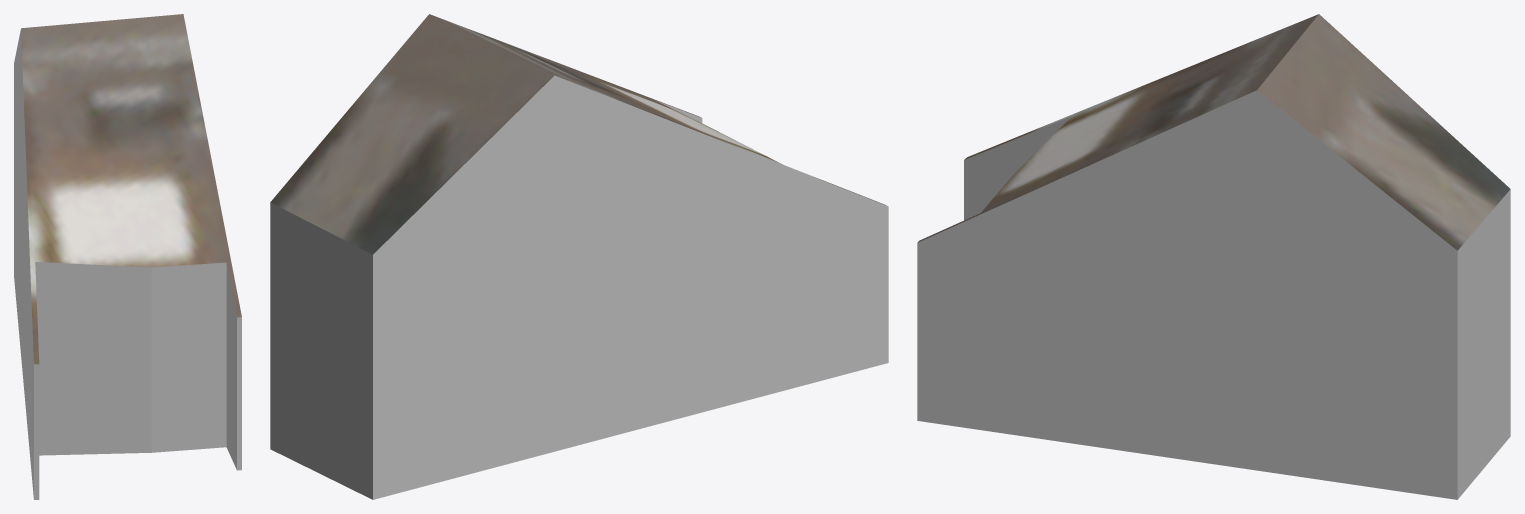
The model's file is DEBW_0010007TvlI.gltf.
The picture shows the model from 3 angles, left to right: view 1: azimuth 30°, elevation 25°; view 2: azimuth 150°, elevation 25°; view 3: azimuth 270°, elevation 25°; orthographic projection. The views are drawn at different scales.
Visible parts, largest first — view 1: Z_UP; view 2: Z_UP; view 3: Z_UP.
Boxes of the visible parts, x1,y1,x2,y2 form: Z_UP: (14,14,241,499); Z_UP: (270,14,888,499); Z_UP: (917,14,1510,499).
Bounding box in the file's own units: 11.87 × 11.39 × 16.1.
Materials: 2 (1 with a texture image).
